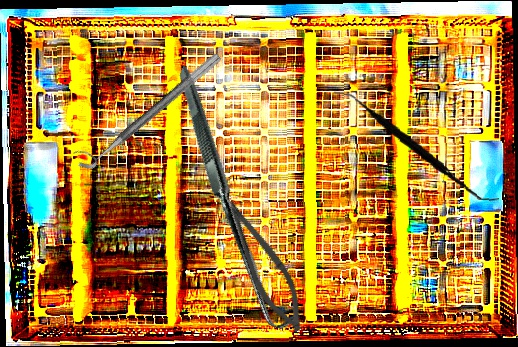Fixation Ring: (69, 40, 223, 176)
Hook Surgical: (107, 64, 367, 334)
Micro Scissor: (210, 193, 318, 339)
Spatula Surgical: (326, 90, 507, 202)
